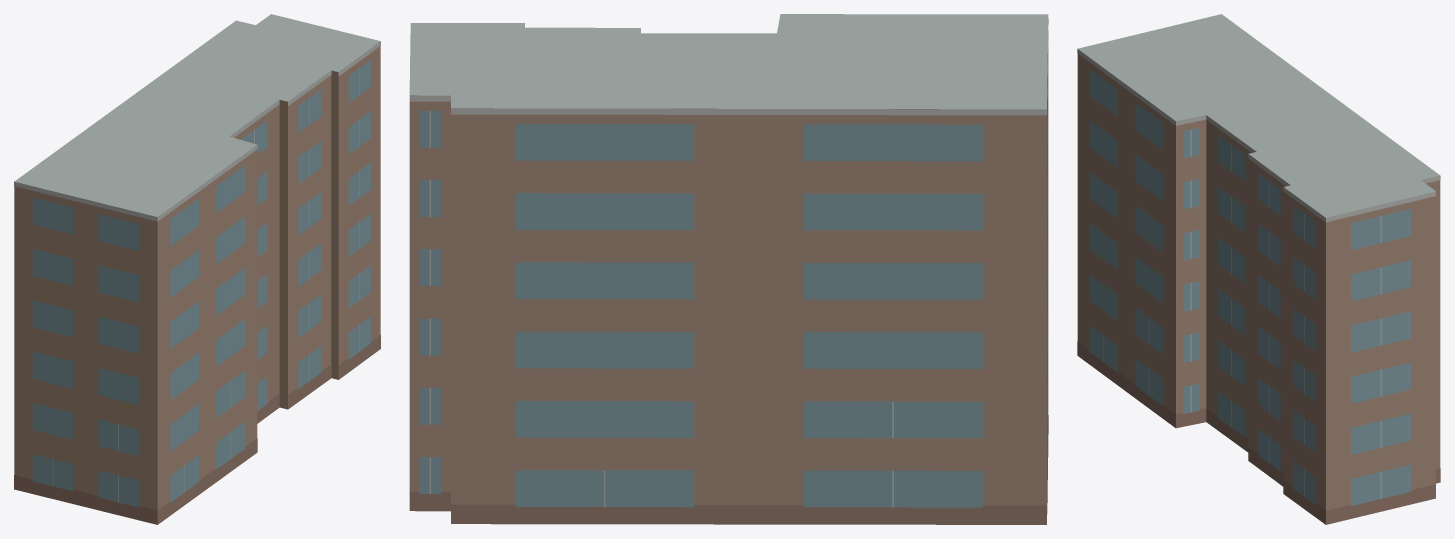
Rendered from survey-upis-32626526.glb.
3 views of the same model, side by side, from view 1: azimuth 30°, elevation 25°; view 2: azimuth 150°, elevation 25°; view 3: azimuth 270°, elevation 25° (orthographic). The views are drawn at different scales.
Visible parts, largest first — view 1: survey-upis-32626526.tmp; view 2: survey-upis-32626526.tmp; view 3: survey-upis-32626526.tmp.
Boxes of the visible parts, x1,y1,x2,y2 form: survey-upis-32626526.tmp: (14, 14, 380, 524); survey-upis-32626526.tmp: (409, 14, 1048, 524); survey-upis-32626526.tmp: (1077, 14, 1440, 524).
Size of the model in its own units: 23.66 by 16.6 by 17.79.
